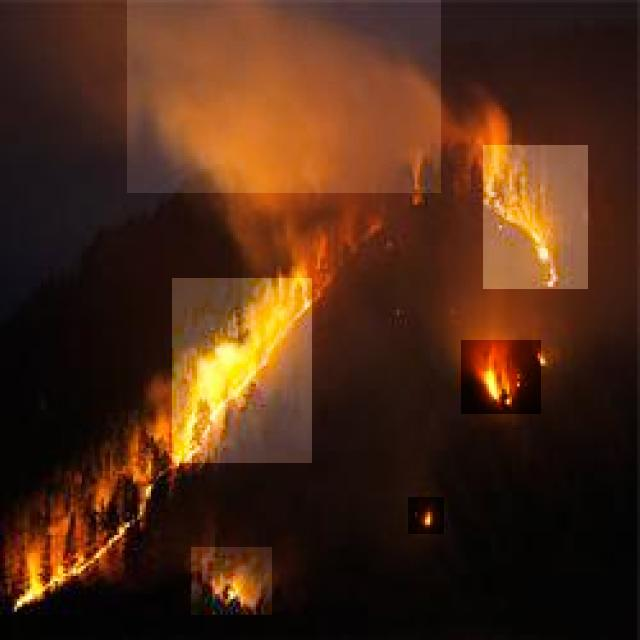Fire: (172, 278, 312, 463), (10, 484, 144, 620), (483, 145, 588, 289), (461, 340, 541, 414), (191, 547, 272, 615), (408, 497, 444, 534)
Smoke: (127, 0, 441, 193)
